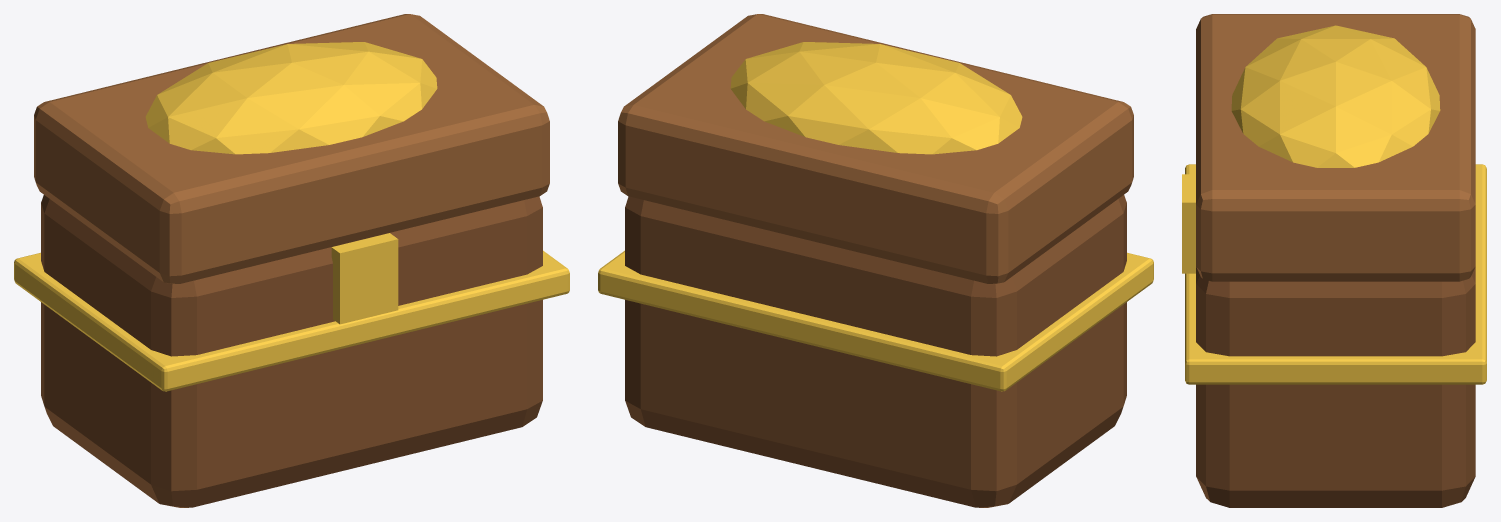
The model's file is Scuba_Chest.fbx.
3 renders of one model, left to right at view 1: azimuth 30°, elevation 25°; view 2: azimuth 150°, elevation 25°; view 3: azimuth 270°, elevation 25°, orthographic.
Parts seen in each view (by area): view 1: Chest; view 2: Chest; view 3: Chest.
Boxes of the visible parts, left/top/right/bottom form: Chest: left=14, top=14, right=569, bottom=507; Chest: left=598, top=14, right=1153, bottom=507; Chest: left=1182, top=14, right=1486, bottom=507.
Size of the model in its own units: 0.84 by 0.72 by 0.545.
